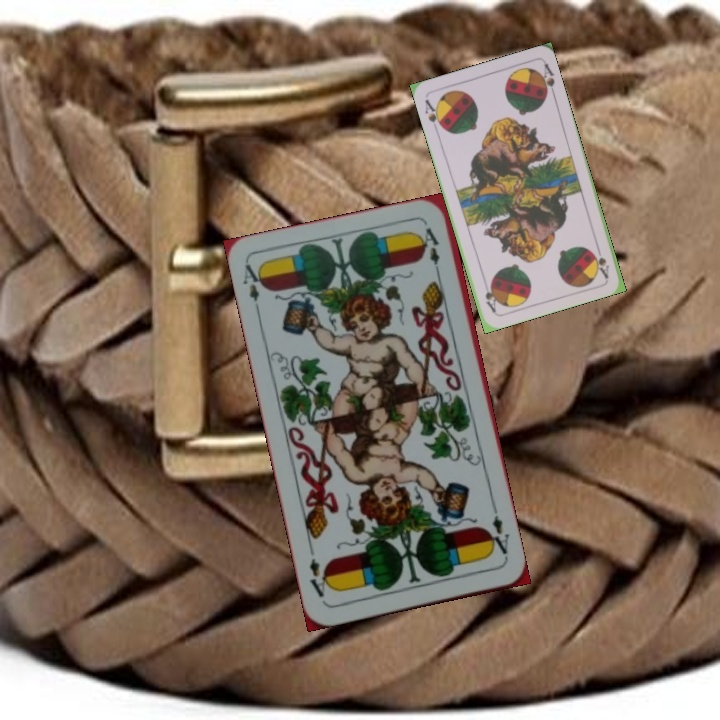EA: (239, 260, 268, 319), (483, 511, 512, 562)
SA: (421, 95, 446, 132), (590, 240, 612, 280)
